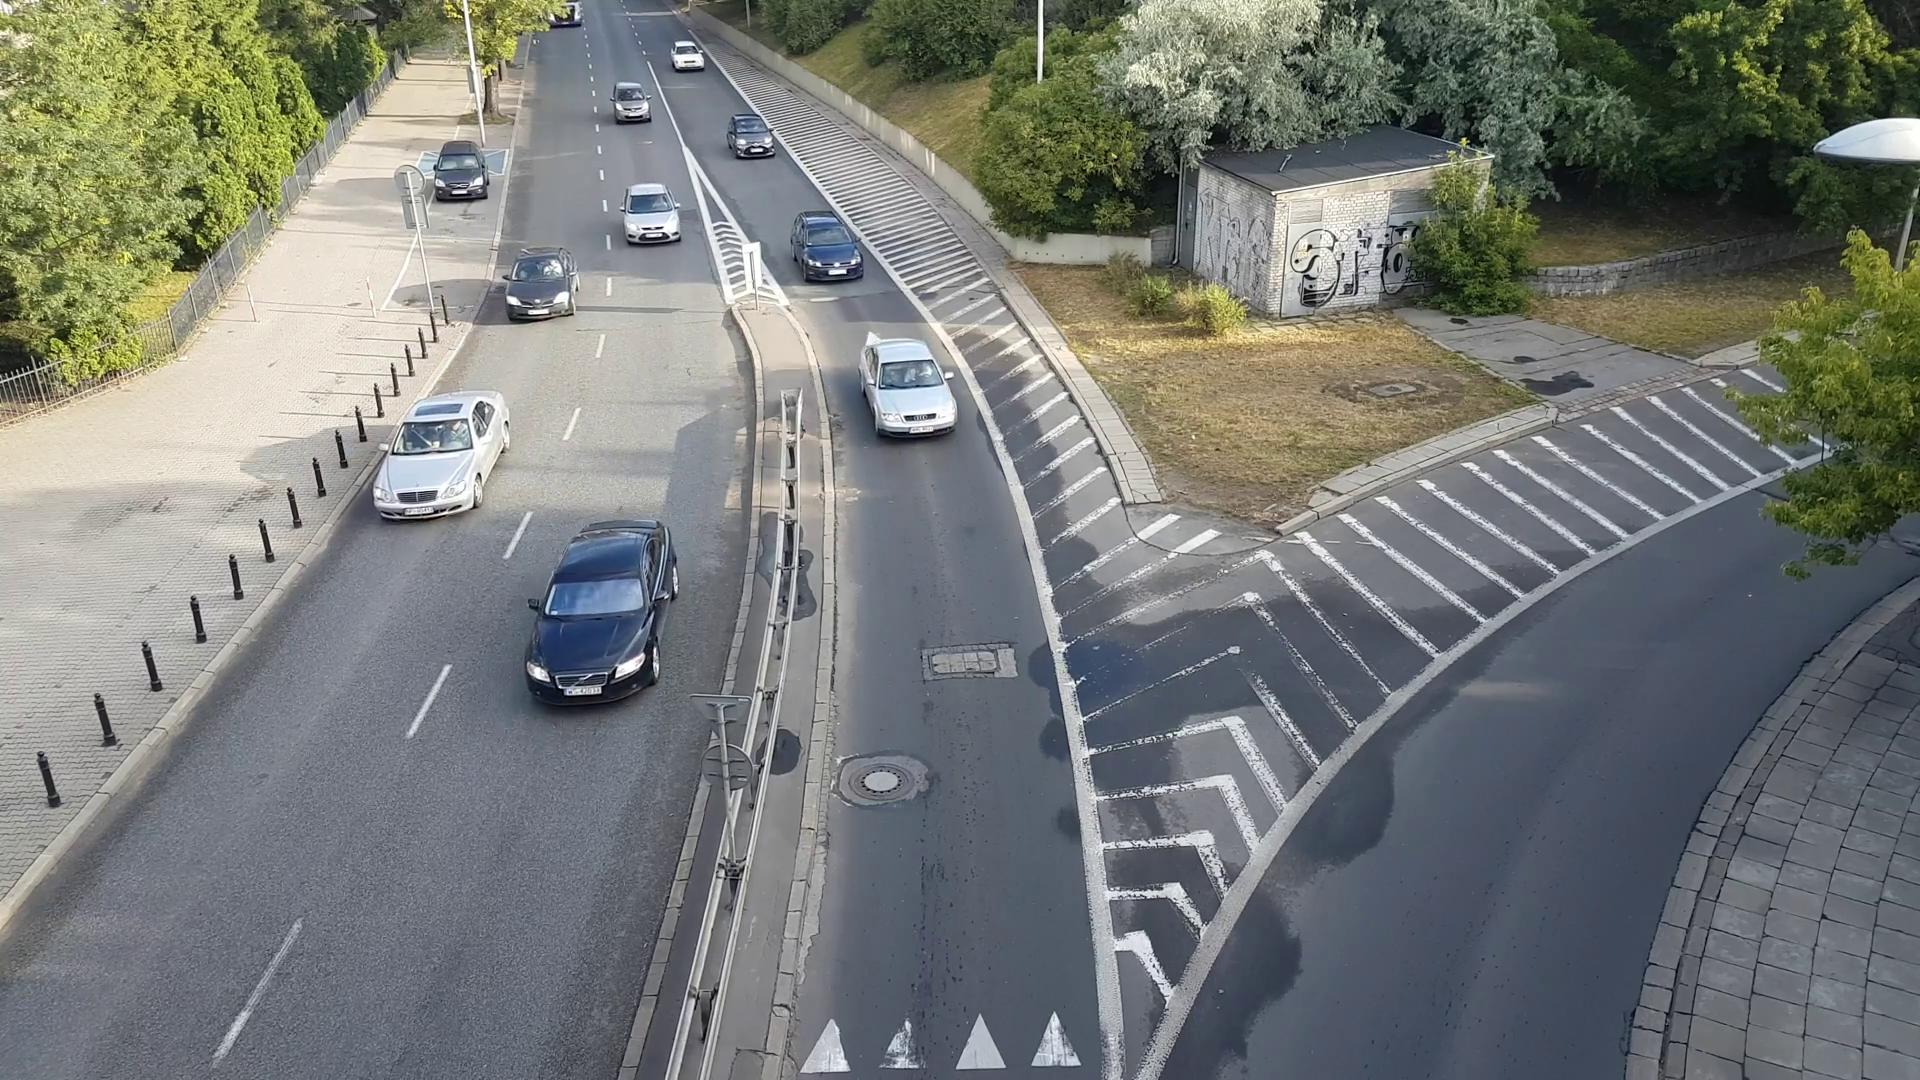car: (514, 509, 692, 711), (371, 378, 518, 525), (848, 327, 963, 440), (498, 236, 588, 322), (785, 202, 868, 289), (615, 177, 691, 253), (427, 127, 495, 211), (720, 107, 778, 161), (607, 71, 655, 131), (665, 30, 709, 79)
